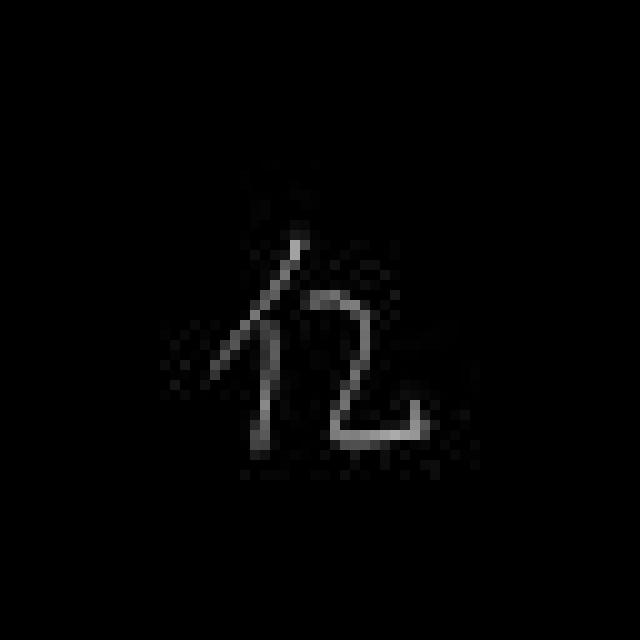100000 -a hundred thousand-: (204, 223, 441, 474)
